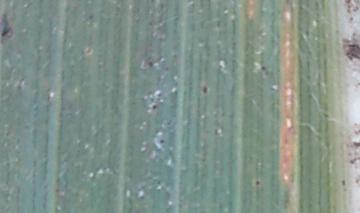tarspot: (345, 41, 360, 62), (1, 14, 13, 38), (349, 155, 360, 166), (200, 84, 209, 95), (352, 173, 360, 185), (352, 4, 360, 15), (351, 139, 360, 148), (302, 28, 311, 37), (158, 136, 166, 146), (147, 59, 154, 70), (150, 102, 158, 111), (253, 178, 262, 186), (259, 63, 267, 72), (155, 91, 163, 100), (87, 14, 95, 22), (352, 126, 360, 134), (340, 177, 347, 186), (348, 15, 355, 23), (345, 8, 351, 15), (345, 3, 352, 8), (344, 1, 352, 4)
